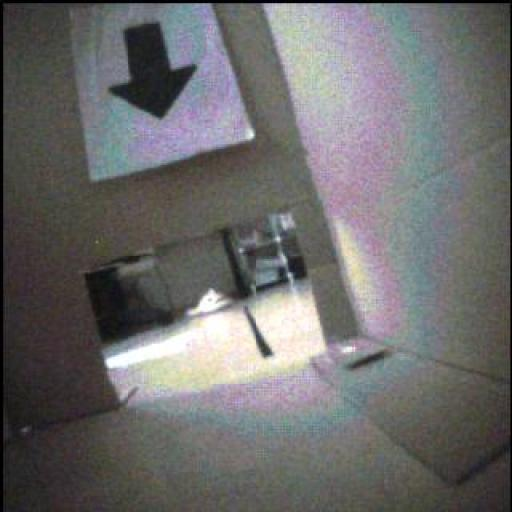arrow: (111, 24, 198, 120)
